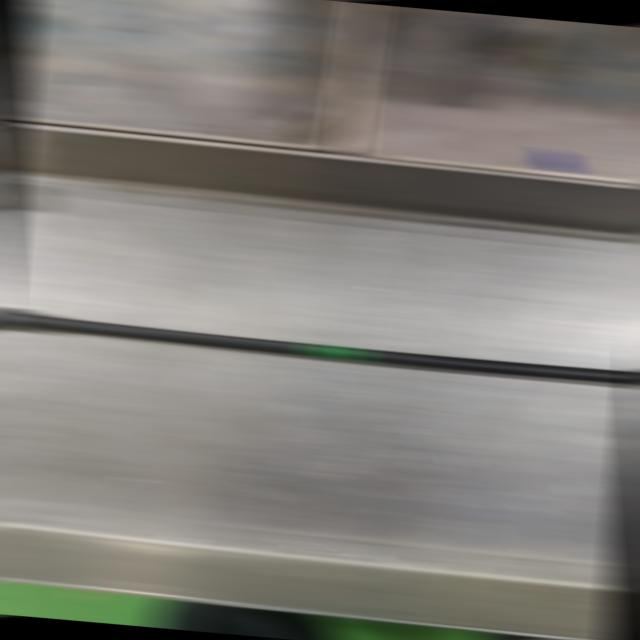green: (304, 343, 367, 360)
